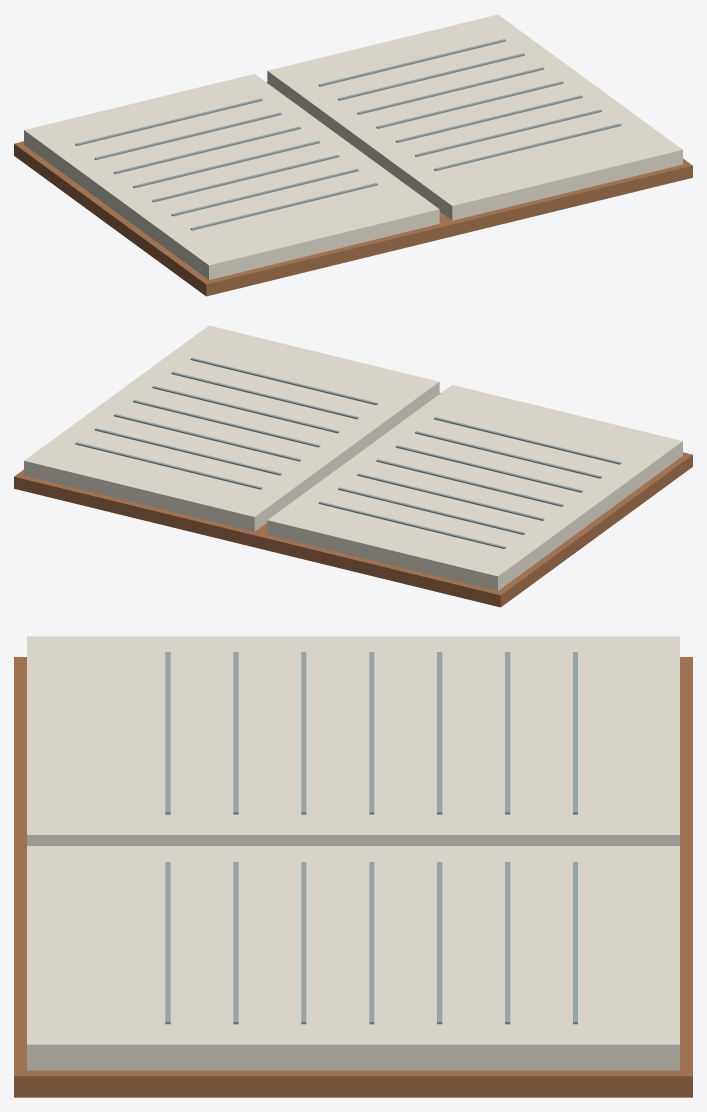
Rendered from officeOpenNotebook.glb.
3 renders of one model, top to bottom at view 1: azimuth 30°, elevation 25°; view 2: azimuth 150°, elevation 25°; view 3: azimuth 270°, elevation 25°, orthographic. The views are drawn at different scales.
Size of the model in its own units: 0.38 by 0.0215 by 0.26.
